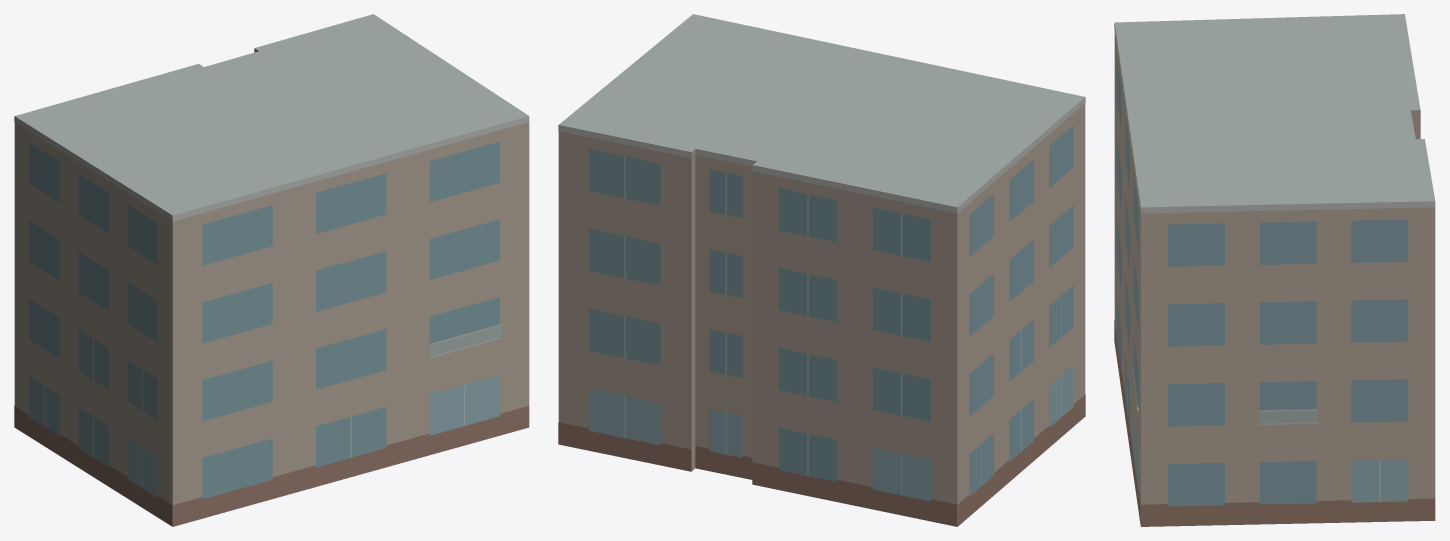
The model's file is survey-upis-32727667.glb.
3 renders of one model, left to right at view 1: azimuth 30°, elevation 25°; view 2: azimuth 150°, elevation 25°; view 3: azimuth 270°, elevation 25°, orthographic. The views are drawn at different scales.
Visible parts, largest first — view 1: survey-upis-32727667.tmp; view 2: survey-upis-32727667.tmp; view 3: survey-upis-32727667.tmp.
Boxes of the visible parts, x1,y1,x2,y2 form: survey-upis-32727667.tmp: (14, 14, 529, 526); survey-upis-32727667.tmp: (558, 14, 1085, 526); survey-upis-32727667.tmp: (1114, 14, 1435, 526).
Size of the model in its own units: 16.59 by 12.77 by 11.63.
